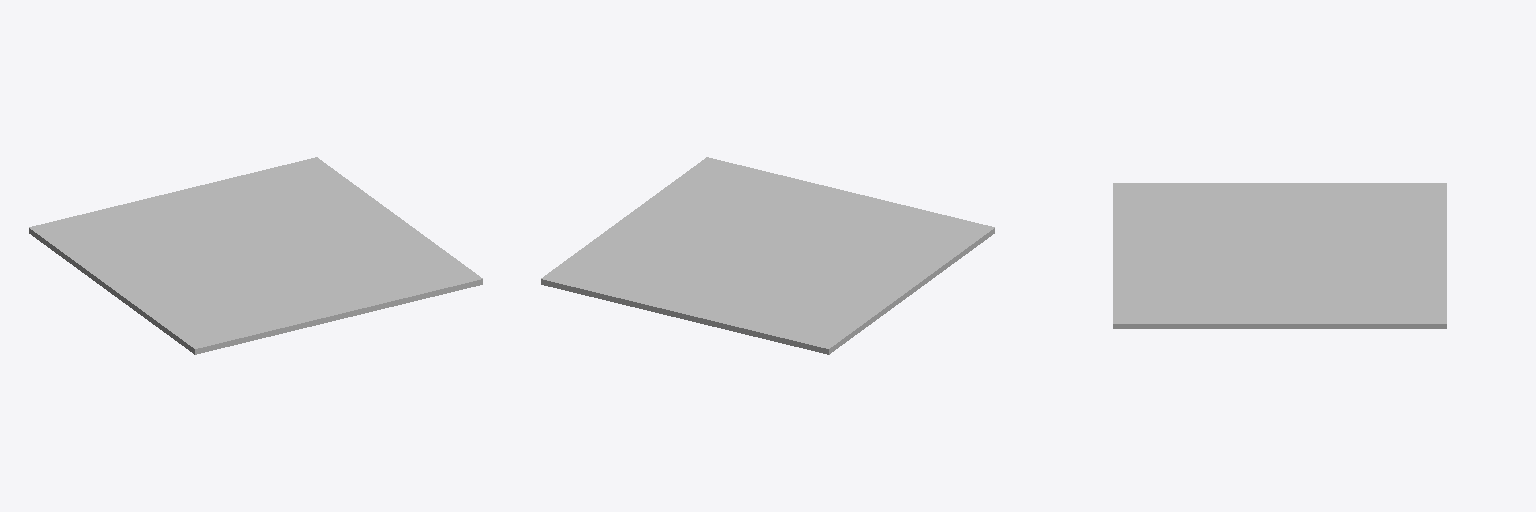
Rendered from WebVRoom01.obj.
3 renders of one model, left to right at view 1: azimuth 30°, elevation 25°; view 2: azimuth 150°, elevation 25°; view 3: azimuth 270°, elevation 25°, orthographic.
Visible parts, largest first — view 1: Asset_Room; view 2: Asset_Room; view 3: Asset_Room.
Part boxes in pixels (x1,y1,x2,y2): Asset_Room: (29,157,482,354); Asset_Room: (541,157,994,354); Asset_Room: (1113,183,1446,328).
Size of the model in its own units: 54 by 1 by 54.